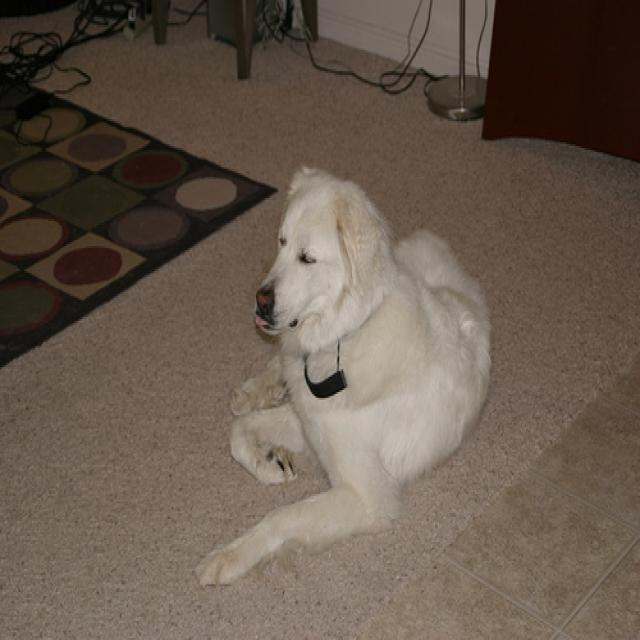dog-great_pyrenees: (196, 160, 495, 588)
